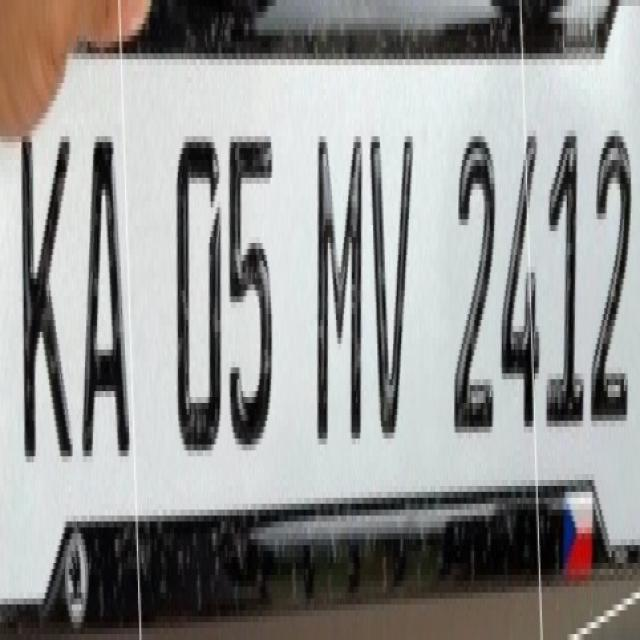0: (170, 93, 225, 476)
1: (546, 116, 588, 455)
4: (501, 130, 544, 458)
5: (224, 85, 280, 478)
A: (80, 105, 137, 494)
K: (14, 93, 76, 480)
M: (311, 90, 367, 484)
V: (369, 96, 416, 469)
